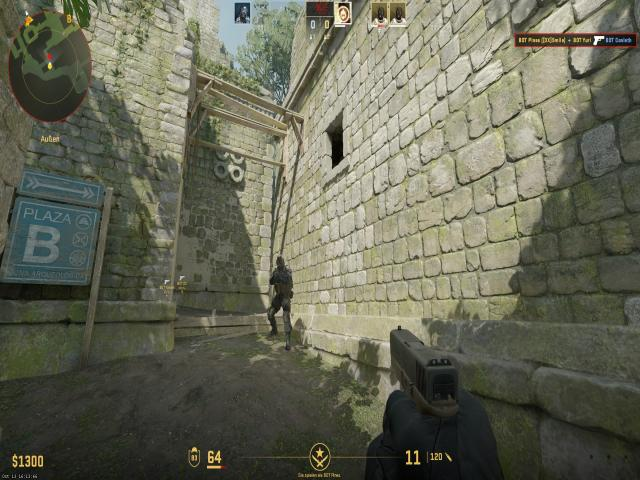CT: (265, 254, 297, 339)
CT-Head: (275, 254, 286, 273)
